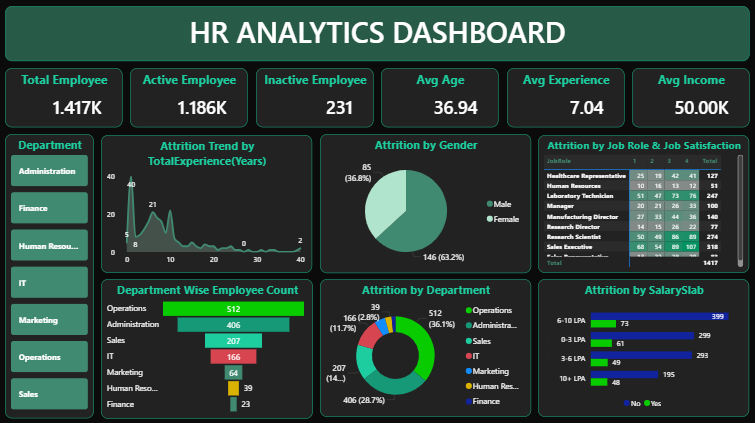

What the dashboard file says about the page in this screenshot:
{"tool":"powerbi","page":{"name":"Page 1","canvas":[1280,720],"ordinal":0},"visuals":[{"type":"textbox","box":[20.2,14.4,1241.3,92.2],"z":1000},{"type":"cardVisual","title":"Total Employee","fields":{"Data":["CountNonNull(HR_Analytics-4.EmpID)"]},"box":[20,118.8,195.8,99.4],"z":2000},{"type":"cardVisual","title":"Active Employee","fields":{"Data":["CountNonNull(HR_Analytics-4.EmployeeCount)"]},"box":[229.1,118.9,195.8,99.4],"z":3000},{"type":"cardVisual","title":"Inactive Employee","fields":{"Data":["CountNonNull(HR_Analytics-4.EmpID)"]},"box":[438.2,118.4,195.8,99.4],"z":4000},{"type":"cardVisual","title":"Avg Age","fields":{"Data":["Avg(HR_Analytics-4.Age)"]},"box":[647.3,118.5,195.8,99.4],"z":5000},{"type":"cardVisual","title":"Avg Experience","fields":{"Data":["Avg(HR_Analytics-4.YearsatCompany)"]},"box":[856.3,118.7,195.8,99.4],"z":6000},{"type":"cardVisual","title":"Avg Income","fields":{"Data":["Avg(HR_Analytics-4.MonthlyIncome)"]},"box":[1065.4,119.1,195.8,99.4],"z":7000},{"type":"donutChart","title":"Attrition by Department","fields":{"Category":["HR_Analytics-4.Department"],"Y":["CountNonNull(HR_Analytics-4.Attrition)"]},"box":[545,470,351.7,230],"z":8000},{"type":"clusteredBarChart","title":"Attrition by SalarySlab","fields":{"Category":["HR_Analytics-4.SalarySlab"],"Y":["CountNonNull(HR_Analytics-4.EmpID)"],"Series":["HR_Analytics-4.Attrition"]},"box":[909,470.1,352.2,229.9],"z":9000},{"type":"pivotTable","title":"Attrition by Job Role & Job Satisfaction","fields":{"Rows":["HR_Analytics-4.JobRole"],"Values":["CountNonNull(HR_Analytics-4.AttritionCount)"],"Columns":["HR_Analytics-4.JobSatisfaction"]},"box":[909,229.9,352.2,229.9],"z":10000},{"type":"pieChart","title":"Attrition by Gender","fields":{"Category":["HR_Analytics-4.Gender"],"Y":["Sum(HR_Analytics-4.AttritionCount)"]},"box":[545,228.3,351.7,231.7],"z":11000},{"type":"areaChart","title":" Attrition Trend by TotalExperience(Years)","fields":{"Category":["HR_Analytics-4.TotalExperience(Years)"],"Y":["Sum(HR_Analytics-4.AttritionCount)"]},"box":[180.6,229.9,352.2,229.9],"z":12000},{"type":"funnel","title":"Department Wise Employee Count","fields":{"Category":["HR_Analytics-4.Department"],"Y":["CountNonNull(HR_Analytics-4.EmpID)"]},"box":[180,470,353.3,233.3],"z":13000},{"type":"advancedSlicerVisual","title":"Department","fields":{"Values":["HR_Analytics-4.Department"]},"box":[20.2,229,148.3,473.8],"z":14000}]}

Visuals, with their boxes in screenshot pixels (x1, y1, x2, y2), scaled from the page's 1280x720 canvas onto the 755x423 screenshot:
textbox: BBox(12, 8, 744, 63)
"Total Employee" cardVisual: BBox(12, 70, 127, 128)
"Active Employee" cardVisual: BBox(135, 70, 251, 128)
"Inactive Employee" cardVisual: BBox(258, 70, 374, 128)
"Avg Age" cardVisual: BBox(382, 70, 497, 128)
"Avg Experience" cardVisual: BBox(505, 70, 621, 128)
"Avg Income" cardVisual: BBox(628, 70, 744, 128)
"Attrition by Department" donutChart: BBox(321, 276, 529, 411)
"Attrition by SalarySlab" clusteredBarChart: BBox(536, 276, 744, 411)
"Attrition by Job Role & Job Satisfaction" pivotTable: BBox(536, 135, 744, 270)
"Attrition by Gender" pieChart: BBox(321, 134, 529, 270)
" Attrition Trend by TotalExperience(Years)" areaChart: BBox(107, 135, 314, 270)
"Department Wise Employee Count" funnel: BBox(106, 276, 315, 413)
"Department" advancedSlicerVisual: BBox(12, 135, 99, 413)
